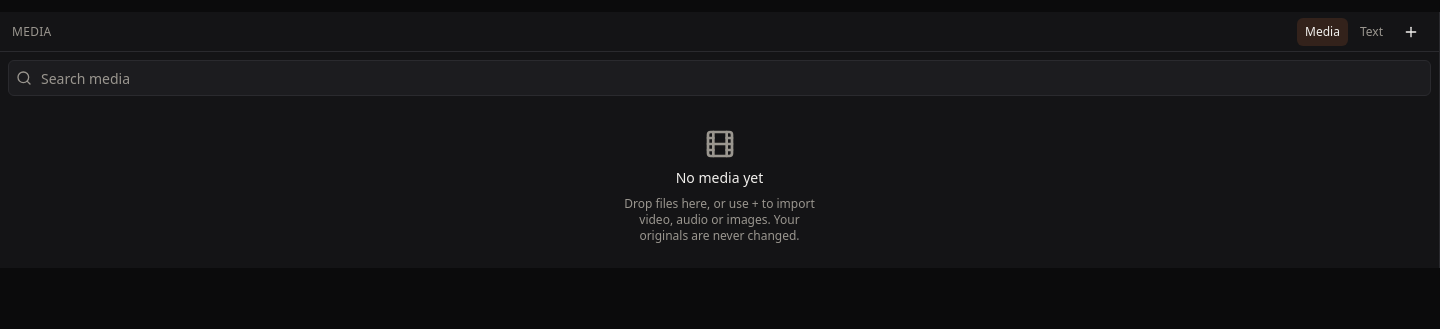
Test case: MediaLibrary › shows a clear error when the media engine is unavailable
Click the button named "Import media" at [1411, 32], box [1395,16,1427,48]
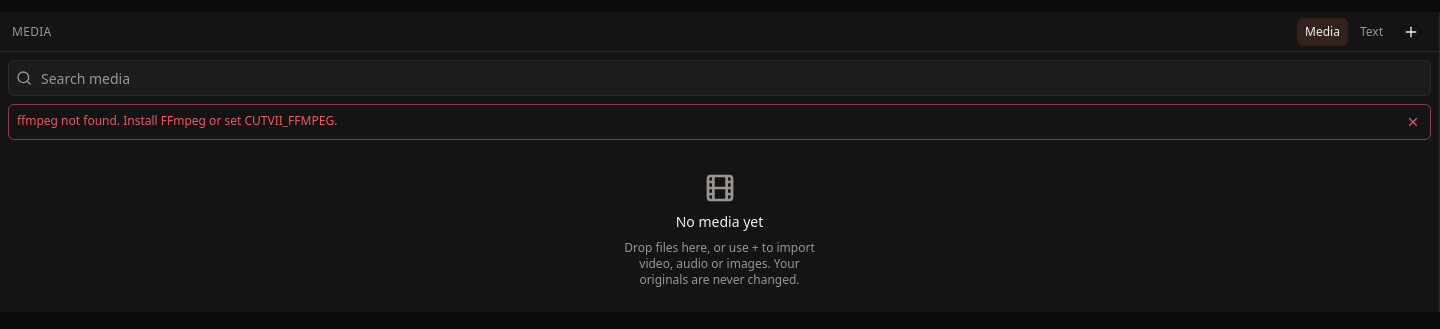
Check: the message shows "ffmpeg not found", box [17,112,337,129]
